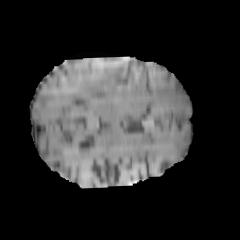glioma: (64, 56, 187, 111)
